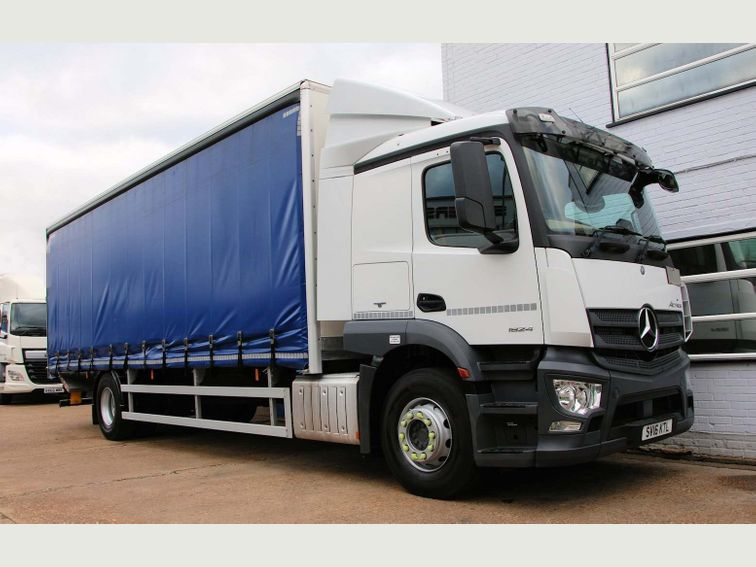Semi: (45, 77, 693, 494)
